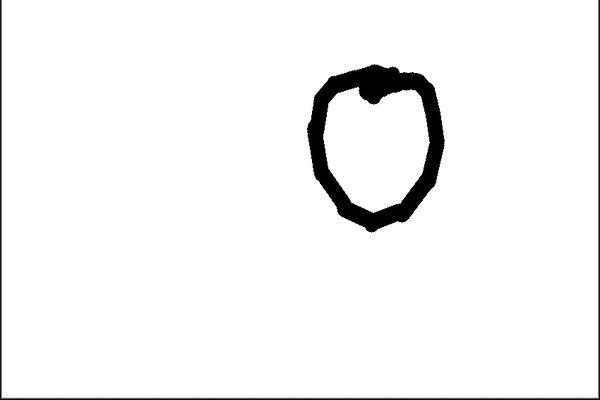O: (299, 47, 449, 230)
